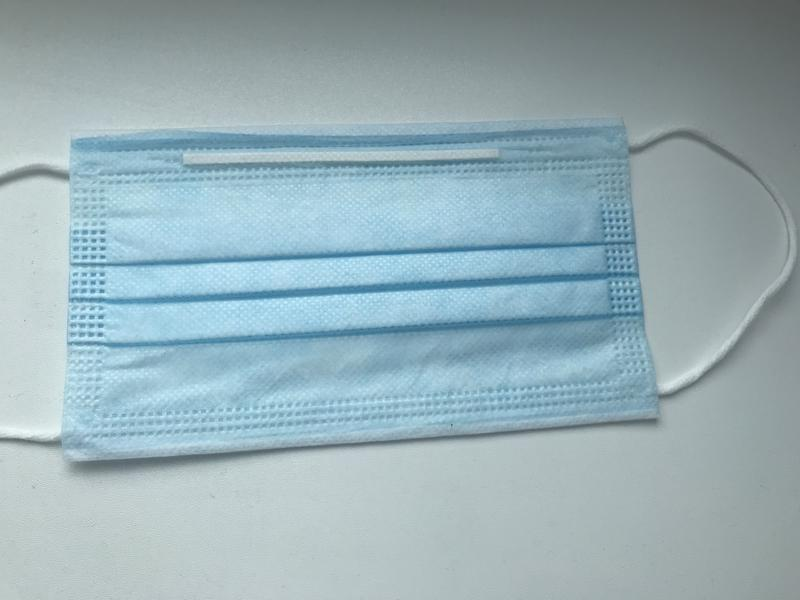medical_mask: (1, 116, 800, 464)
